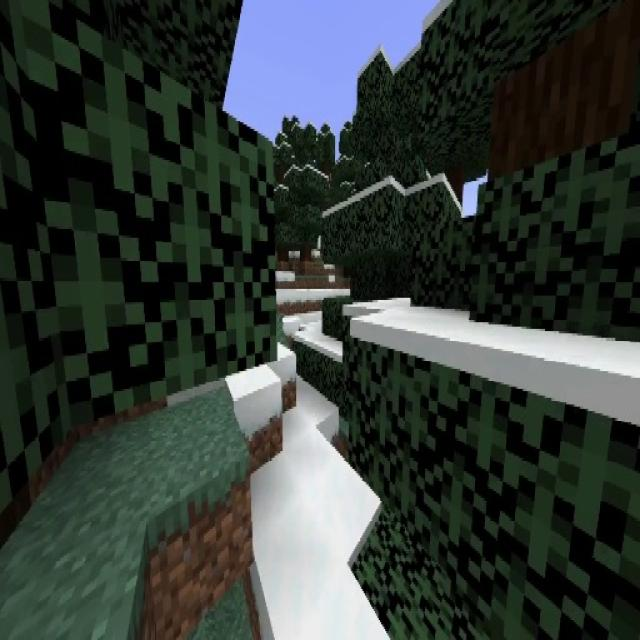spruce: (273, 126, 333, 263)
